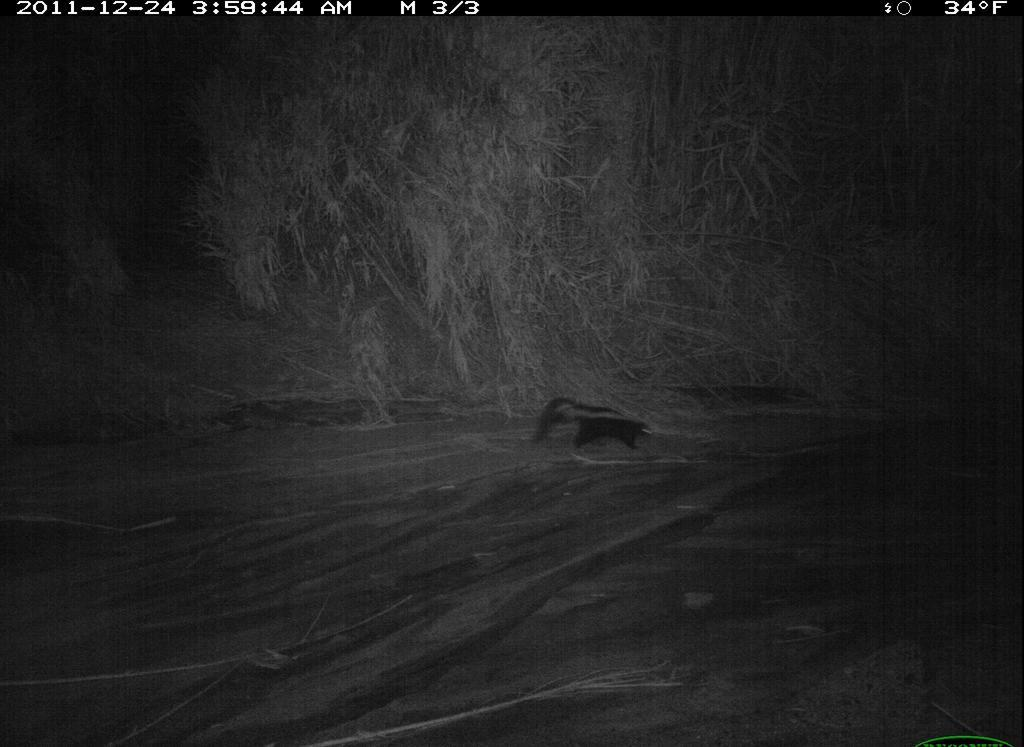skunk: (518, 391, 666, 472)
